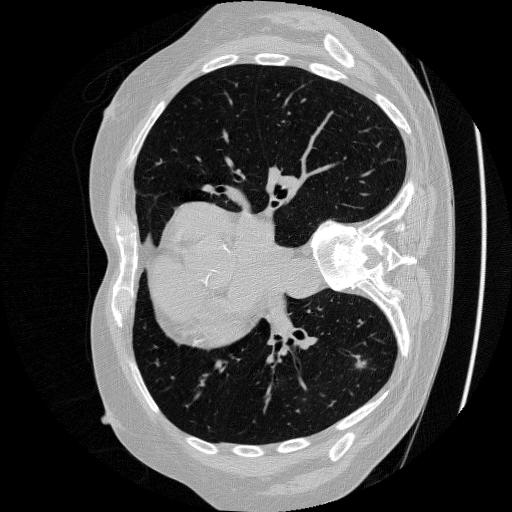nodule: (352, 355, 369, 372)
